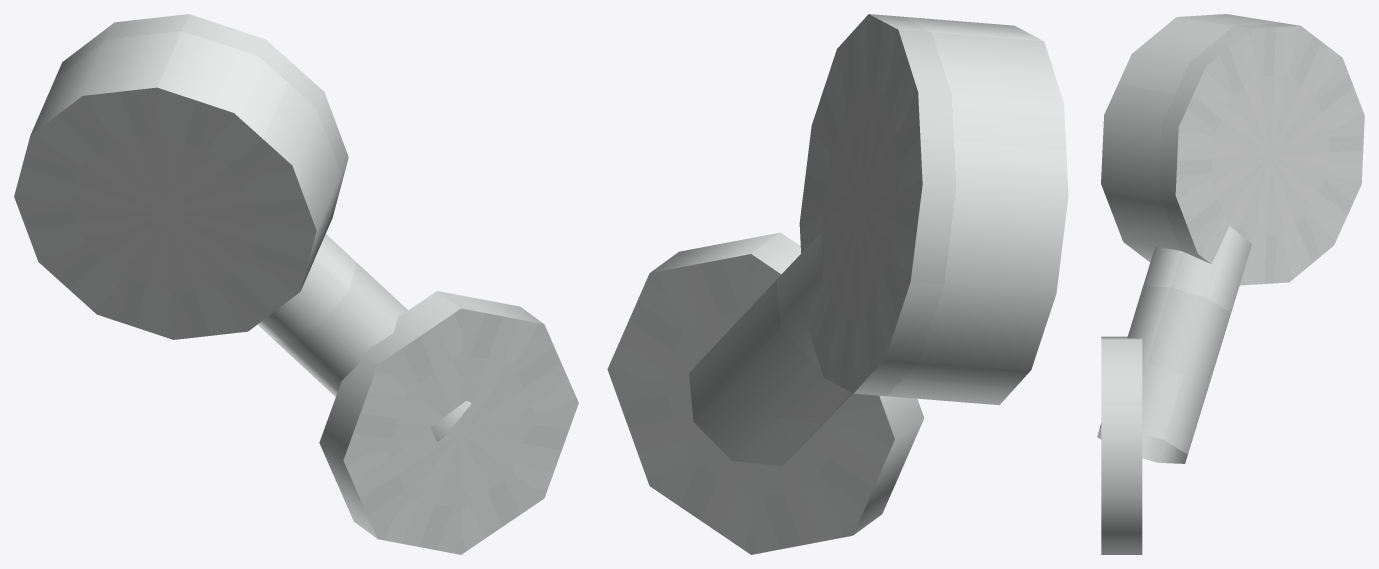
The model's file is nycsignalarm_stub_205.obj.
The picture shows the model from 3 angles, left to right: view 1: azimuth 30°, elevation 25°; view 2: azimuth 150°, elevation 25°; view 3: azimuth 270°, elevation 25°; orthographic projection. The views are drawn at different scales.
Parts seen in each view (by area): view 1: nycsignalarm_stub_205; view 2: nycsignalarm_stub_205; view 3: nycsignalarm_stub_205.
Part boxes in pixels (bbox=[...]): nycsignalarm_stub_205: bbox=[14, 14, 578, 554]; nycsignalarm_stub_205: bbox=[607, 14, 1068, 554]; nycsignalarm_stub_205: bbox=[1097, 14, 1364, 554].
Bounding box in the file's own units: 0.675 × 0.7407 × 0.4035.
